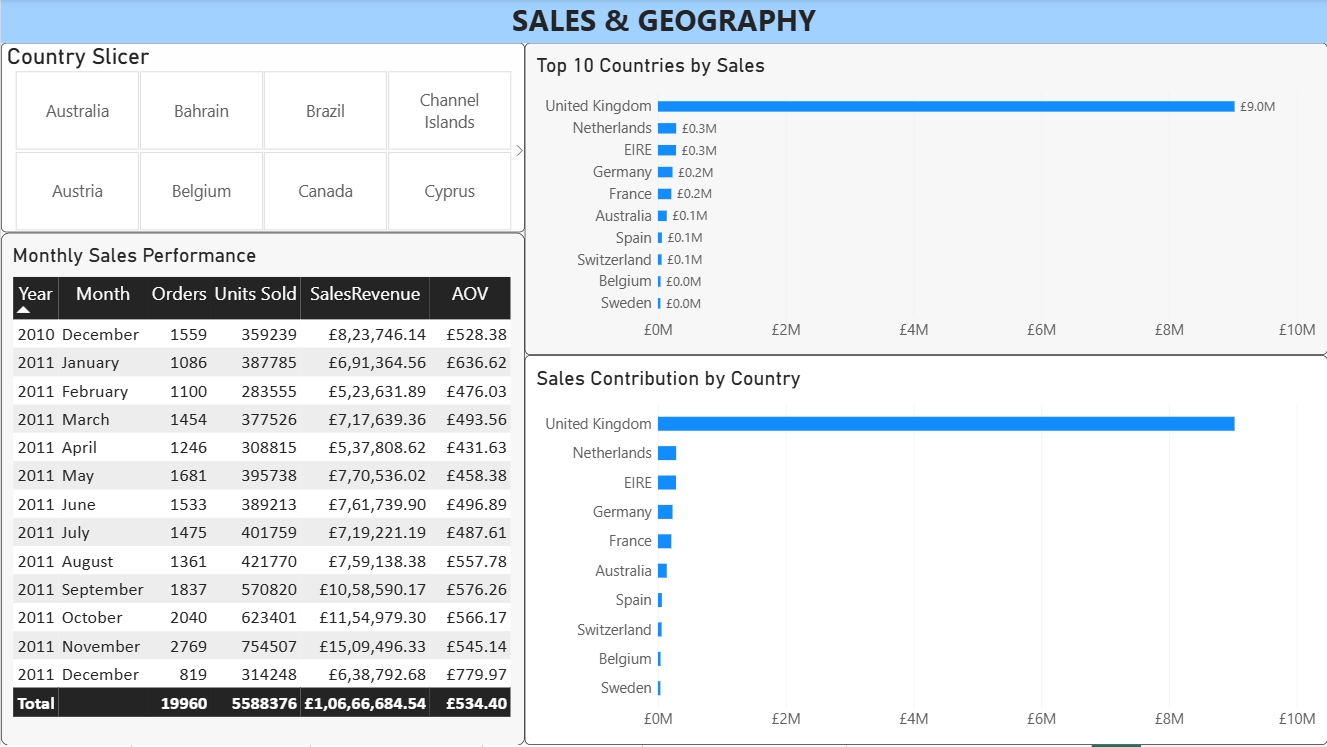

This screenshot's page, from the dashboard's own definition file:
{"tool":"powerbi","page":{"name":"Sales & Geography","canvas":[1920,1080],"ordinal":1},"visuals":[{"type":"tableEx","title":"Monthly Sales Performance","fields":{"Values":["online_retail_clean.InvoiceDate.Variation.Date Hierarchy.Year","online_retail_clean.InvoiceDate.Variation.Date Hierarchy.Month","online_retail_clean.Orders","online_retail_clean.Units Sold","online_retail_clean.SalesRevenue","online_retail_clean.AOV"]},"box":[0,338,758,742],"z":0},{"type":"barChart","title":"Sales Contribution by Country","fields":{"Category":["online_retail_clean.Country"],"Y":["online_retail_clean.SalesRevenue"]},"box":[758,516,1162,564],"z":1000},{"type":"barChart","title":"Top 10 Countries by Sales","fields":{"Category":["online_retail_clean.Country"],"Y":["online_retail_clean.SalesRevenue"]},"box":[758,64,1162,452],"z":2000},{"type":"slicer","fields":{"Values":["online_retail_clean.Country"]},"box":[0,64,758,274],"z":3000},{"type":"textbox","box":[0,0,1920,64],"z":4000}]}

Visuals, with their boxes in screenshot pixels (x1, y1, x2, y2), scaled from the page's 1920x1080 canvas onto the 1327x747 screenshot:
"Monthly Sales Performance" tableEx: 0/234/524/746
"Sales Contribution by Country" barChart: 524/357/1326/746
"Top 10 Countries by Sales" barChart: 524/44/1326/357
slicer - online_retail_clean.Country: 0/44/524/234
textbox: 0/0/1326/44
